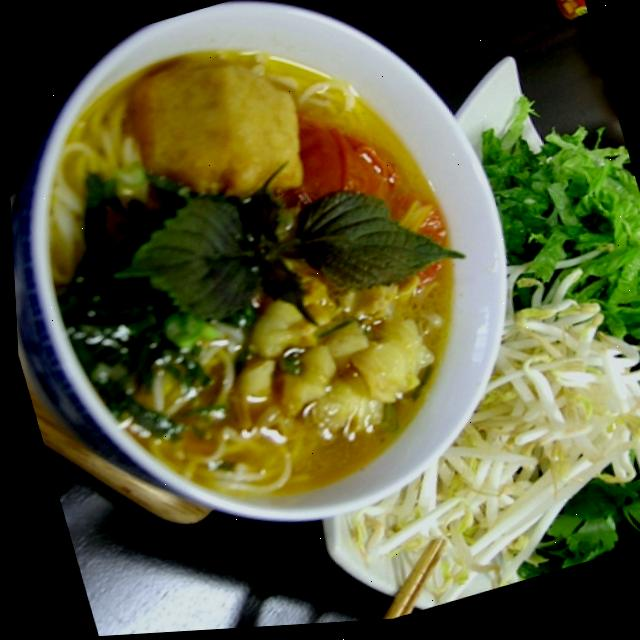面条主食: (2, 14, 507, 568)
